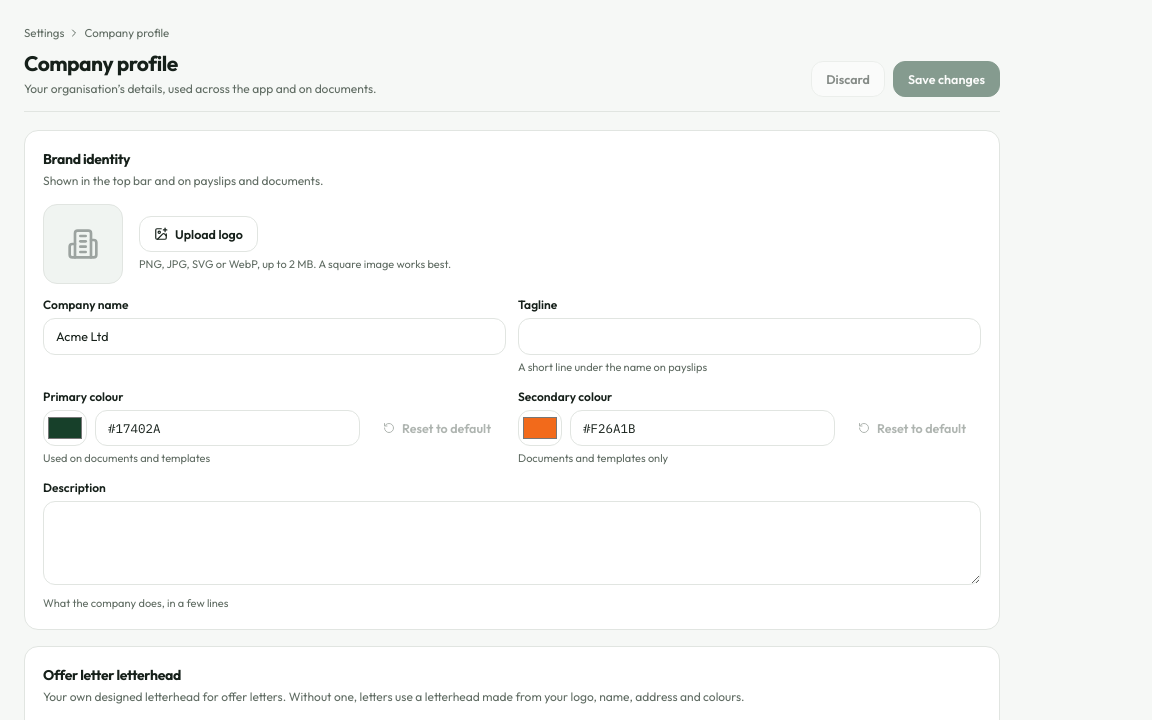
Scenario: Company profile page › picks a colour and resets it to the default
Type "#0f766e" into the colour field named "Primary colour picker" at x=65, y=428, box top-left (43, 410), bottom-right (87, 446)
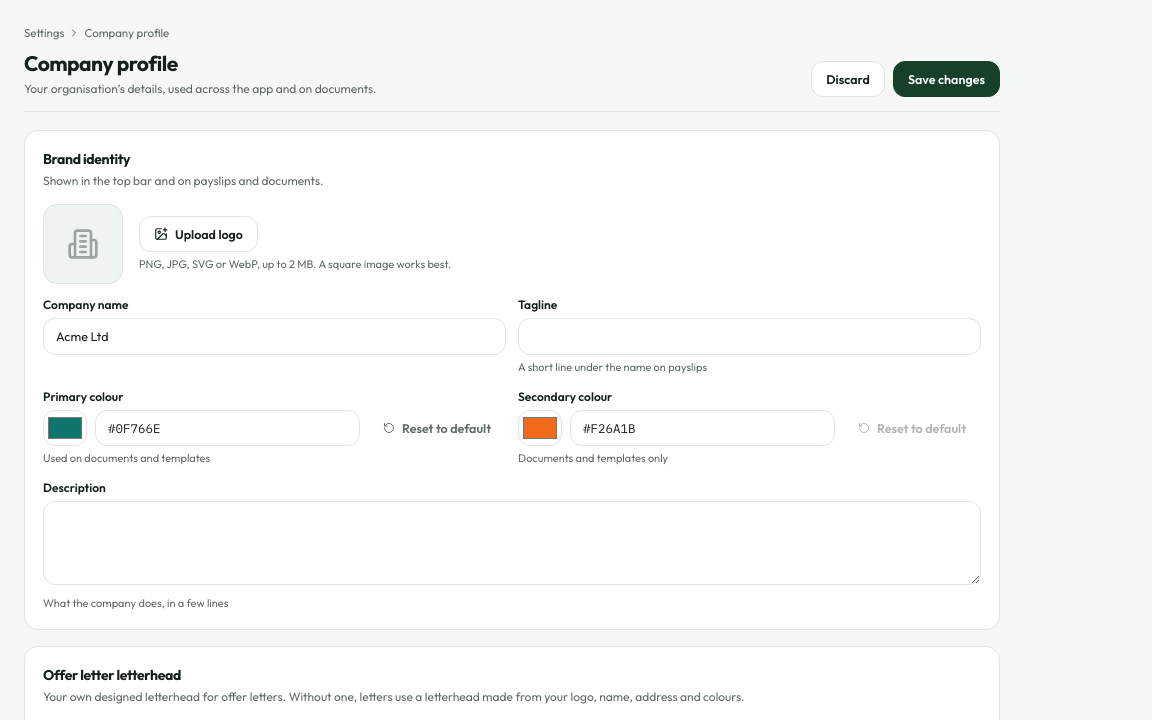
Now the field named "Primary colour hex" holds "#0F766E", box top-left (95, 410), bottom-right (360, 446)
Click the button "Reset to default" below "Primary colour" at x=437, y=428, box top-left (368, 410), bottom-right (506, 446)
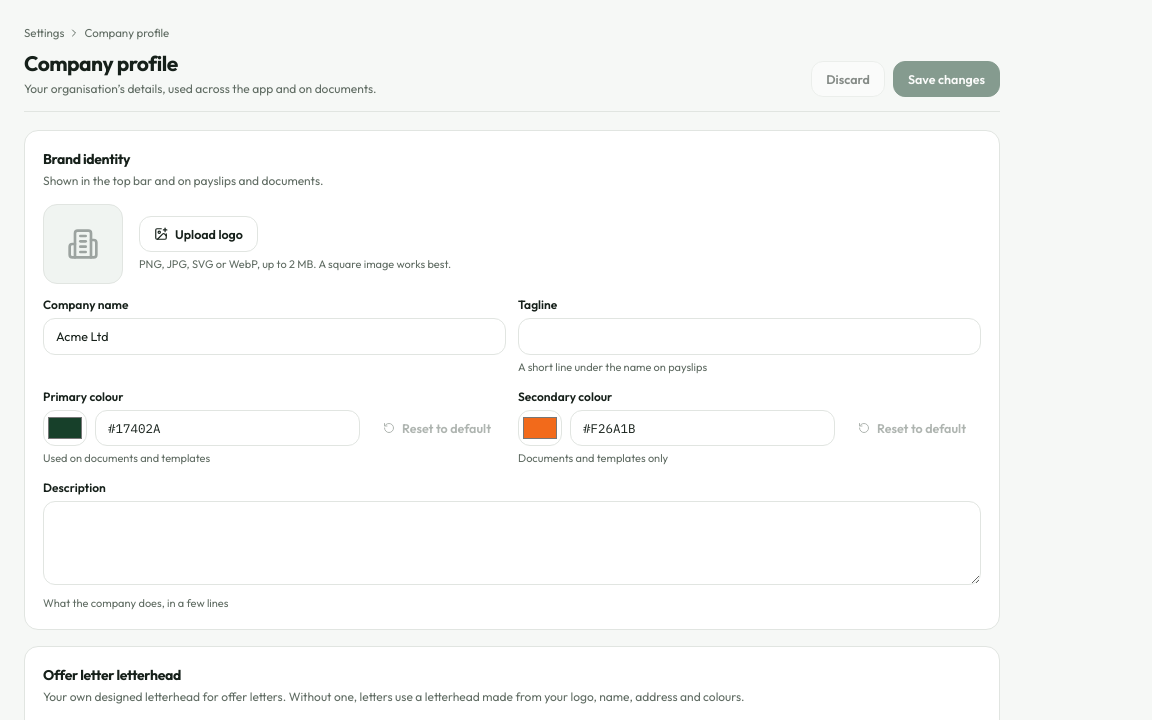
Now the field named "Primary colour hex" holds "#17402A", box top-left (95, 410), bottom-right (360, 446)
